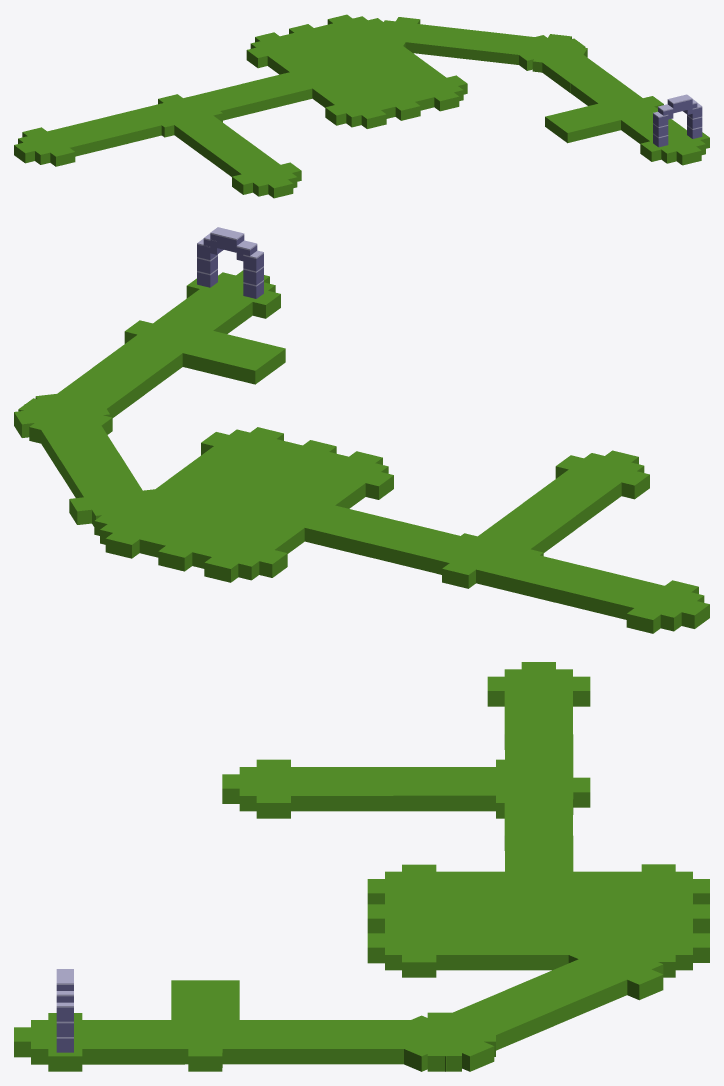
The model's file is Land.fbx.
3 views of the same model, one above another, from view 1: azimuth 30°, elevation 25°; view 2: azimuth 150°, elevation 25°; view 3: azimuth 270°, elevation 25° (orthographic). The views are drawn at different scales.
Parts seen in each view (by area): view 1: mergedBlocks; view 2: mergedBlocks; view 3: mergedBlocks.
Boxes of the visible parts, box(x1,y1,x2,y2) form: mergedBlocks: box(14, 14, 709, 198); mergedBlocks: box(14, 227, 709, 633); mergedBlocks: box(14, 662, 709, 1071).
Size of the model in its own units: 545 by 50 by 407.
